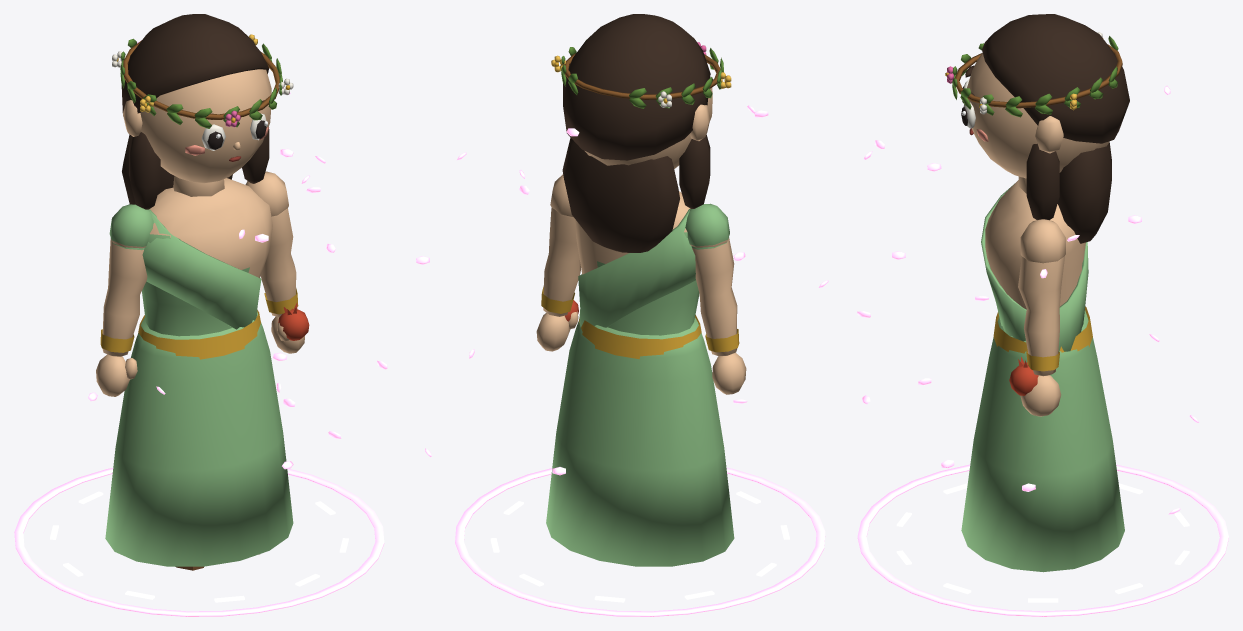
Rendered from persephone.glb.
3 views of the same model, side by side, from view 1: azimuth 30°, elevation 25°; view 2: azimuth 150°, elevation 25°; view 3: azimuth 270°, elevation 25° (orthographic).
Visible parts, largest first — view 1: huefte, rumpf, haare, kopf, armL, vfx_aura, armR, kopfschmuck, itemR; view 2: huefte, haare, rumpf, armL, vfx_aura, armR, kopfschmuck, kopf; view 3: huefte, haare, rumpf, armR, vfx_aura, kopf, kopfschmuck, itemR.
Boxes of the visible parts, box(x1,y1,x2,y2) form: huefte: box(105, 311, 293, 566); rumpf: box(138, 178, 272, 359); haare: box(121, 14, 269, 209); kopf: box(123, 69, 271, 196); armL: box(96, 204, 153, 396); vfx_aura: box(14, 468, 384, 616); armR: box(245, 171, 304, 353); kopfschmuck: box(112, 34, 293, 128); itemR: box(278, 303, 309, 340); huefte: box(546, 317, 734, 566); haare: box(562, 14, 710, 252); rumpf: box(575, 191, 701, 359); armL: box(685, 203, 746, 394); vfx_aura: box(455, 467, 825, 616); armR: box(536, 174, 580, 351); kopfschmuck: box(551, 39, 731, 108); kopf: box(585, 87, 712, 168); huefte: box(961, 310, 1124, 572); haare: box(982, 14, 1129, 243); rumpf: box(981, 180, 1092, 353); armR: box(1018, 219, 1065, 416); vfx_aura: box(857, 464, 1228, 616); kopf: box(967, 53, 1109, 193); kopfschmuck: box(945, 32, 1122, 117); itemR: box(1009, 357, 1038, 395).
Size of the model in its own units: 1.56 by 2.29 by 1.48.
